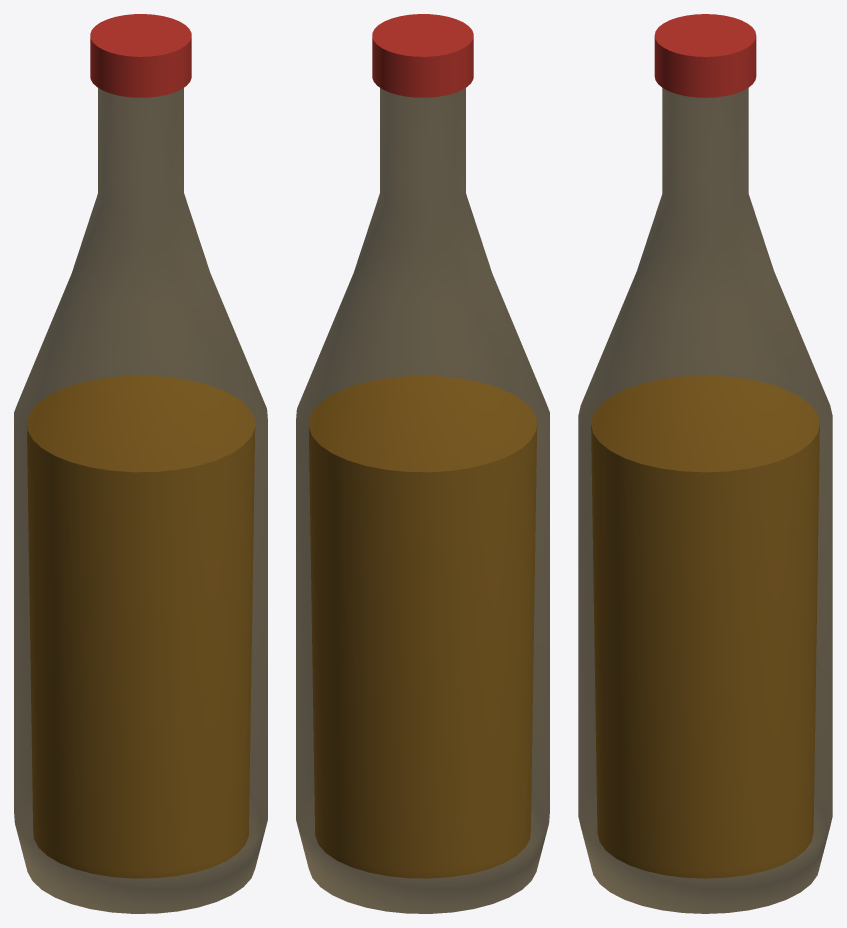
The model's file is garrafa-2-card.glb.
3 views of the same model, side by side, from view 1: azimuth 30°, elevation 25°; view 2: azimuth 150°, elevation 25°; view 3: azimuth 270°, elevation 25° (orthographic).
Bounding box in the file's own units: 0.062 × 0.2233 × 0.062.
